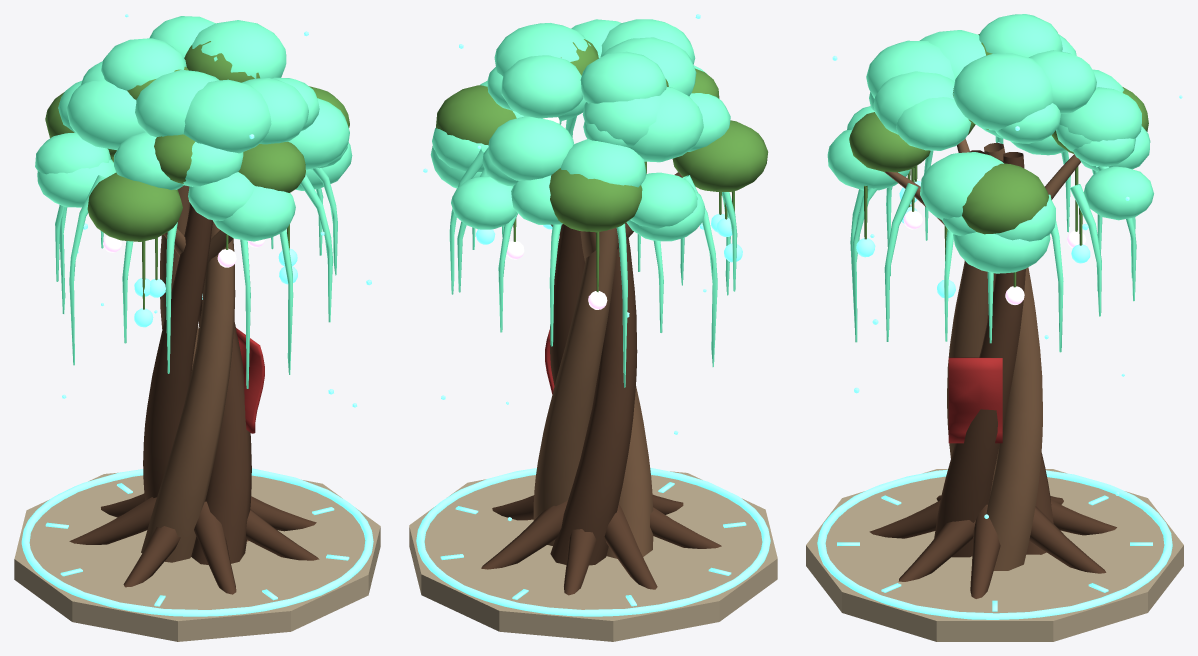
File: branche.glb
The picture shows the model from 3 angles, left to right: view 1: azimuth 30°, elevation 25°; view 2: azimuth 150°, elevation 25°; view 3: azimuth 270°, elevation 25°; orthographic projection.
Parts seen in each view (by area): view 1: leafglow, stone, bark, bark2, leaf, ether, team, bloom_pink; view 2: leafglow, stone, bark, bark2, leaf, ether, bloom_pink; view 3: leafglow, stone, bark, bark2, leaf, ether, team, bloom_pink.
Part boxes in pixels (bbox=[...]): leafglow: bbox=[35, 16, 352, 388]; stone: bbox=[14, 472, 380, 641]; bark: bbox=[69, 203, 319, 594]; bark2: bbox=[141, 185, 248, 562]; leaf: bbox=[45, 37, 349, 309]; ether: bbox=[21, 14, 373, 616]; team: bbox=[236, 328, 264, 433]; bloom_pink: bbox=[103, 235, 265, 267]; leafglow: bbox=[430, 19, 737, 387]; stone: bbox=[409, 471, 777, 641]; bark: bbox=[481, 224, 721, 595]; bark2: bbox=[533, 172, 682, 558]; leaf: bbox=[436, 39, 768, 292]; ether: bbox=[416, 14, 770, 616]; bloom_pink: bbox=[506, 117, 607, 309]; leafglow: bbox=[827, 14, 1153, 352]; stone: bbox=[806, 469, 1183, 641]; bark: bbox=[869, 150, 1116, 598]; bark2: bbox=[884, 138, 1080, 570]; leaf: bbox=[849, 34, 1148, 287]; ether: bbox=[817, 56, 1182, 619]; team: bbox=[948, 357, 1002, 443]; bloom_pink: bbox=[903, 210, 1086, 304].
Bounding box in the file's own units: 1.87 × 3.02 × 1.96.
